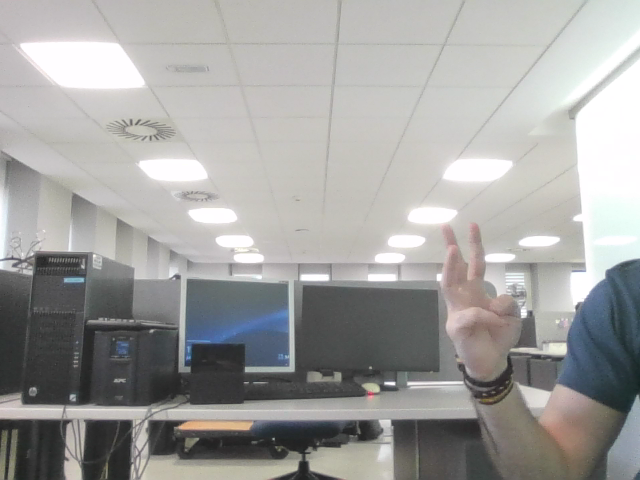3Dedos: (450, 233, 512, 337)
